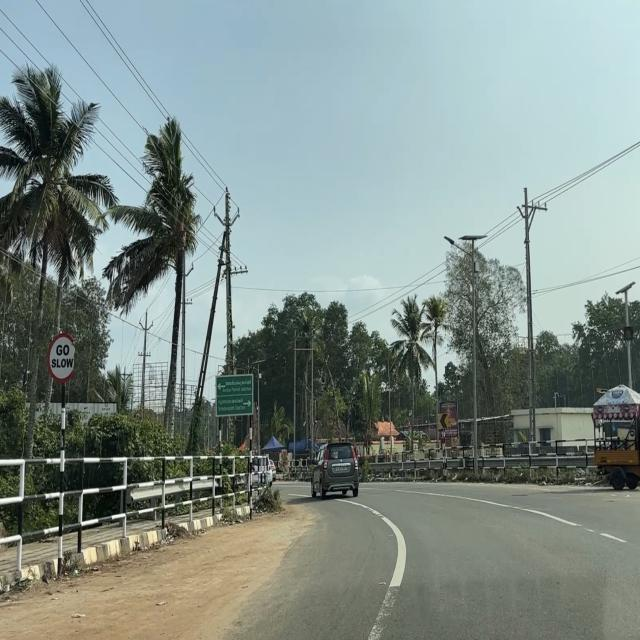GENERAL: (214, 373, 255, 417)
GO_SLOW: (44, 330, 78, 384)
TURN_LEFT: (438, 412, 450, 429)
